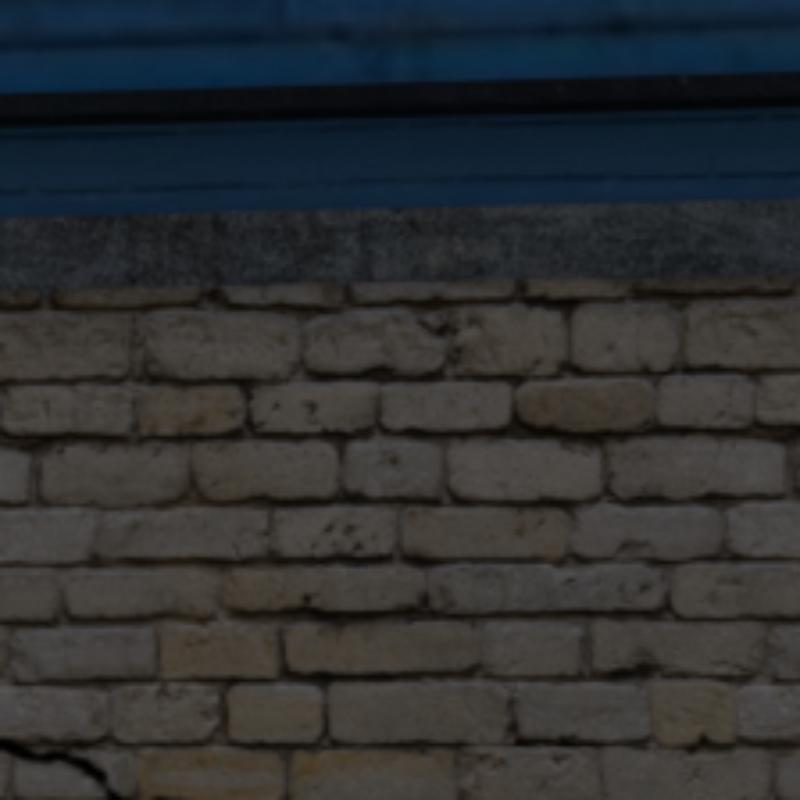crack: (0, 739, 121, 796)
